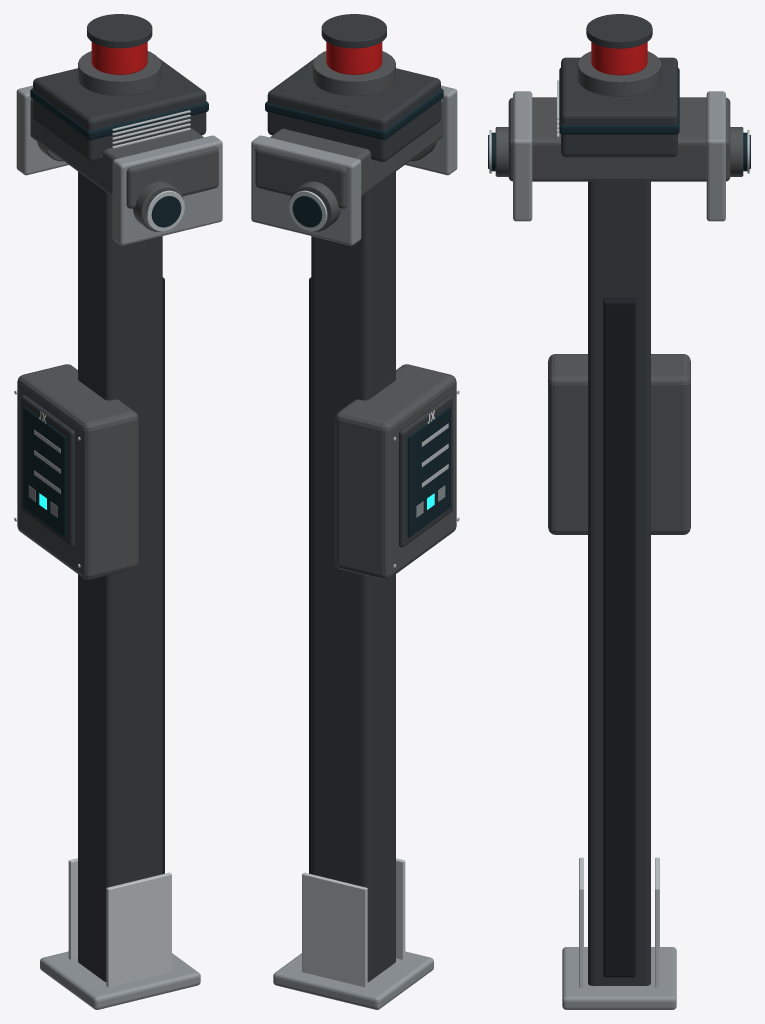
Rendered from SM_JX_Tower.fbx.
3 renders of one model, left to right at view 1: azimuth 30°, elevation 25°; view 2: azimuth 150°, elevation 25°; view 3: azimuth 270°, elevation 25°, orthographic.
Visible parts, largest first — view 1: SM_JX_Tower; view 2: SM_JX_Tower; view 3: SM_JX_Tower.
Boxes of the visible parts, bbox=[...] form: SM_JX_Tower: bbox=[14, 14, 222, 1009]; SM_JX_Tower: bbox=[251, 14, 459, 1009]; SM_JX_Tower: bbox=[488, 14, 750, 1009].
Bounding box in the file's own units: 32.6 × 19.87 × 131.
